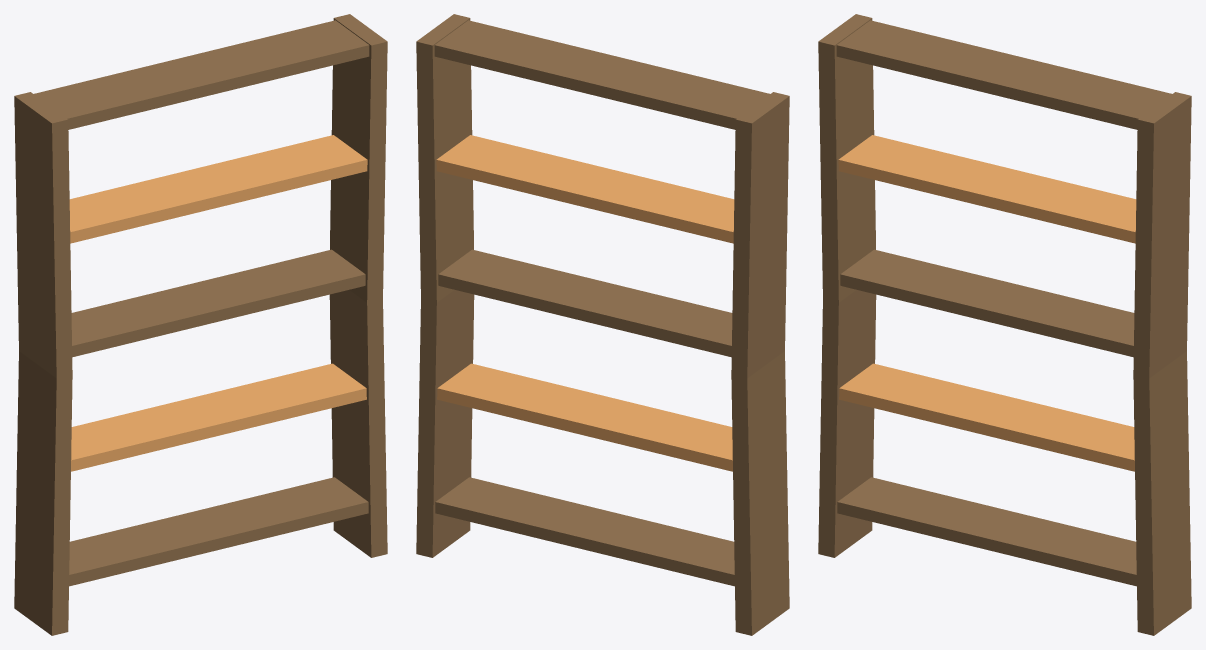
File: Assets.fbx_Shelf.fbx
3 renders of one model, left to right at view 1: azimuth 30°, elevation 25°; view 2: azimuth 150°, elevation 25°; view 3: azimuth 330°, elevation 25°, orthographic.
Visible parts, largest first — view 1: Shelf; view 2: Shelf; view 3: Shelf.
Boxes of the visible parts, left/top/right/bottom form: Shelf: left=14, top=14, right=387, bottom=635; Shelf: left=416, top=14, right=789, bottom=635; Shelf: left=818, top=14, right=1191, bottom=635.
Size of the model in its own units: 103 by 150 by 20.
